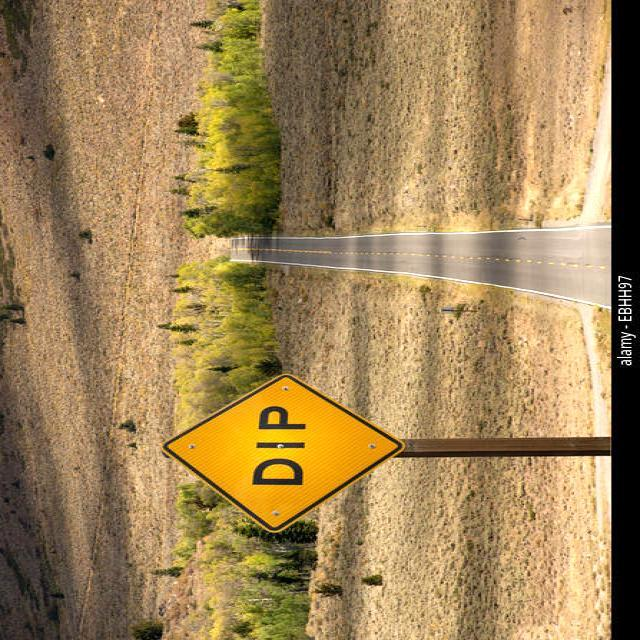Traffic sign: (156, 370, 408, 538)
